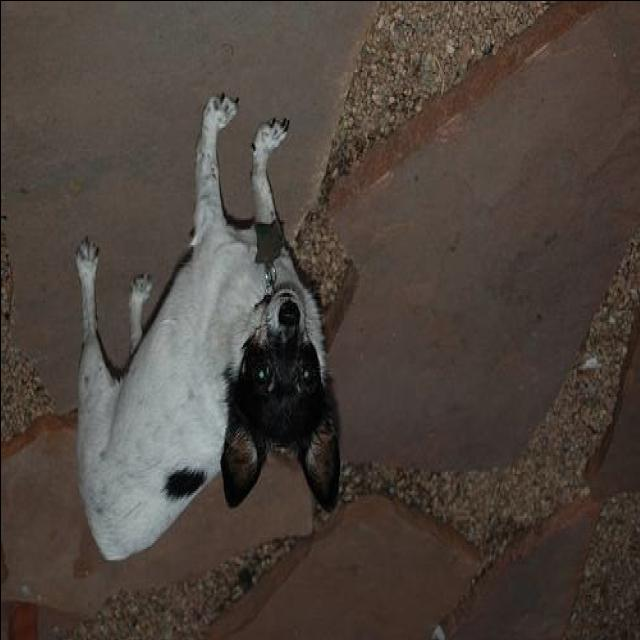toy_terrier: (70, 86, 346, 568)
